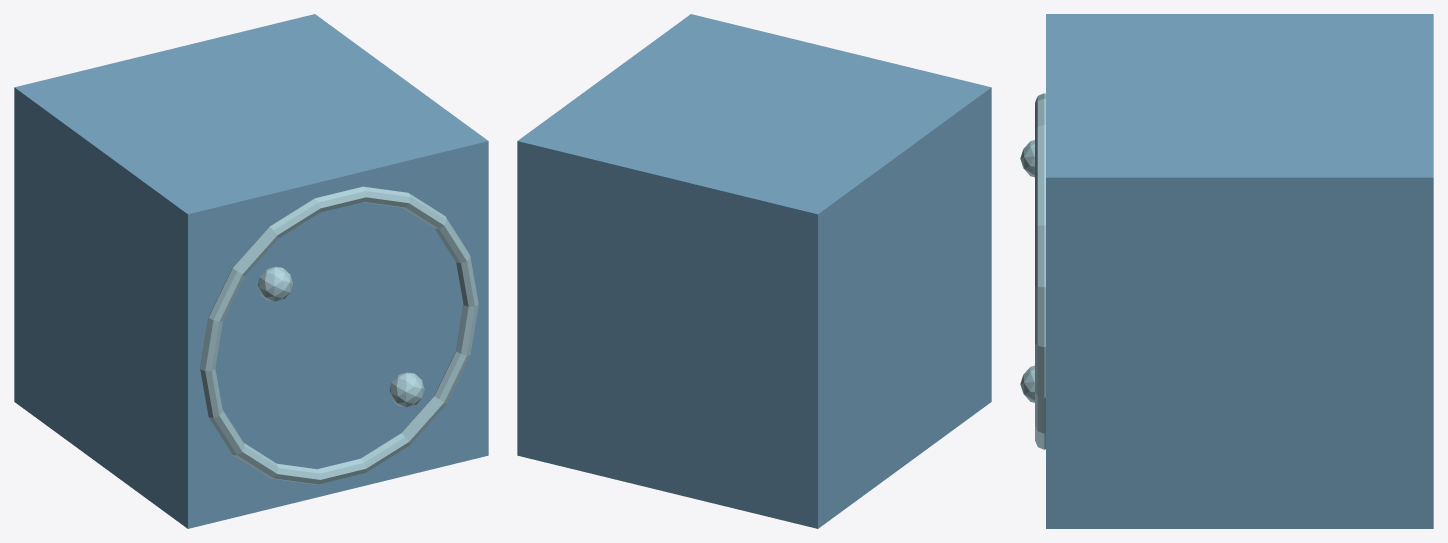
Rendered from bouncer.glb.
The picture shows the model from 3 angles, left to right: view 1: azimuth 30°, elevation 25°; view 2: azimuth 150°, elevation 25°; view 3: azimuth 270°, elevation 25°; orthographic projection. The views are drawn at different scales.
Visible parts, largest first — view 1: world; view 2: world; view 3: world.
Boxes of the visible parts, x1=… form: world: x1=14, y1=14, x2=488, y2=528; world: x1=517, y1=14, x2=991, y2=528; world: x1=1020, y1=14, x2=1433, y2=528.
Bounding box in the file's own units: 1.05 × 1.05 × 1.12.
